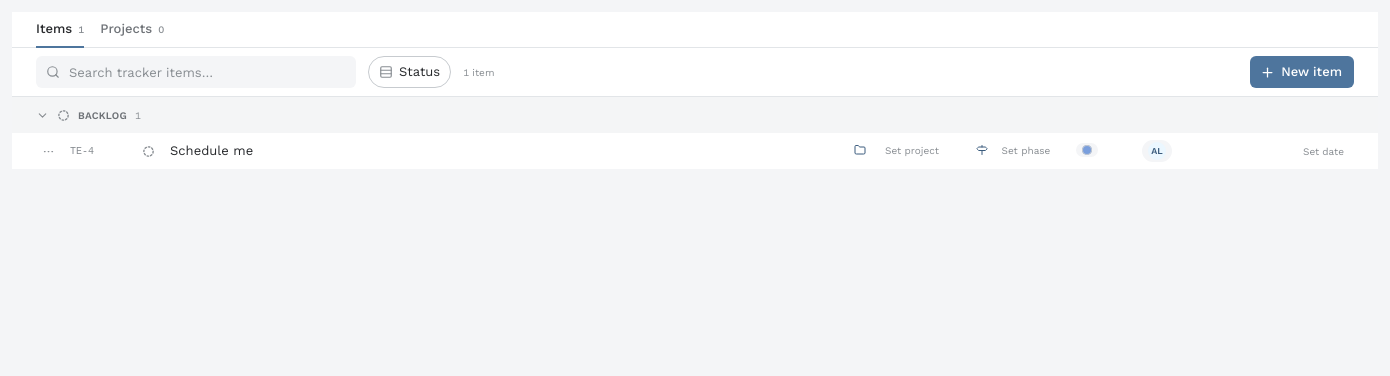
TrackerPage › sets both dates from the row date popover
The width and height of the screenshot is (1390, 376).
Expected: the button with test id "tracker-row-TE-4" is shown, [12,133,1378,169]
Click the button with aria-label "Date: Set date". click: (1324, 151)
box: [1303,144,1344,158]
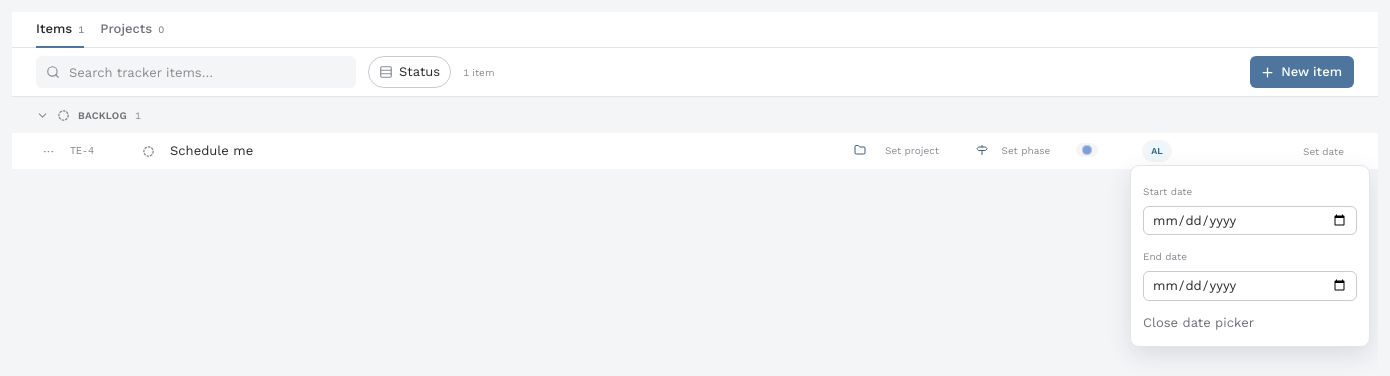
Type "2026-08-06" into the date field labelled "Start date". click: (1250, 220)
box: [1143,206,1357,235]
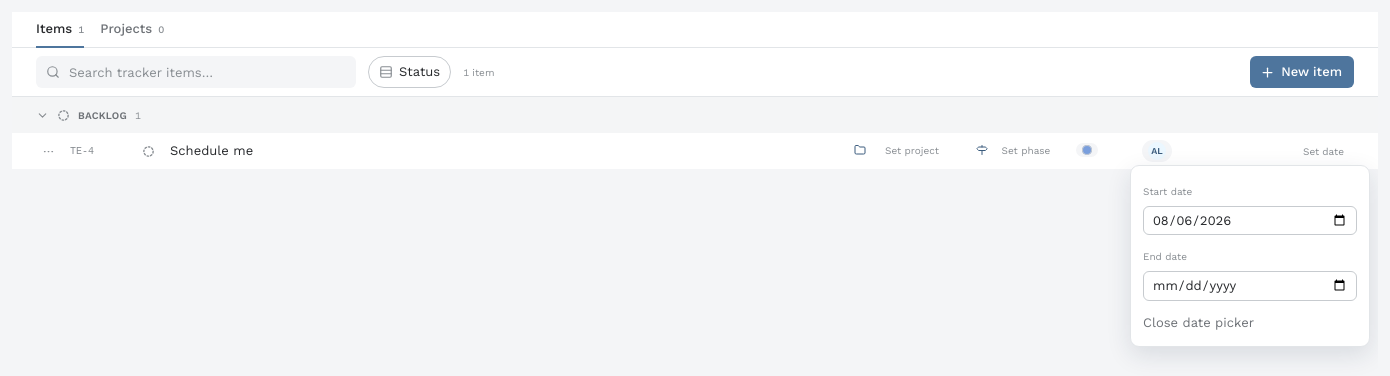
Type "2026-08-26" into the date field labelled "End date". click: (1250, 286)
box: [1143,271,1357,300]
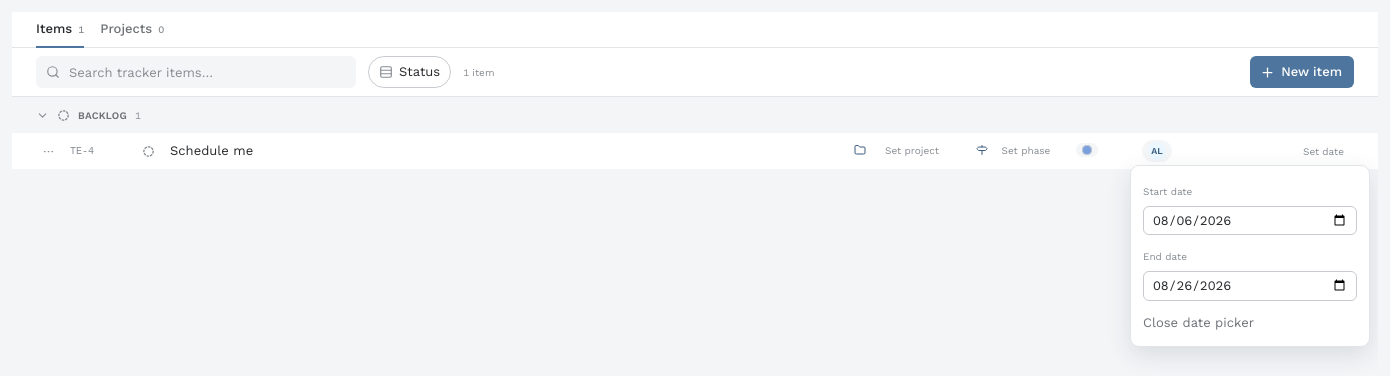
Click the button labelled "Close date picker". click: (1198, 322)
box: [1143,312,1254,332]
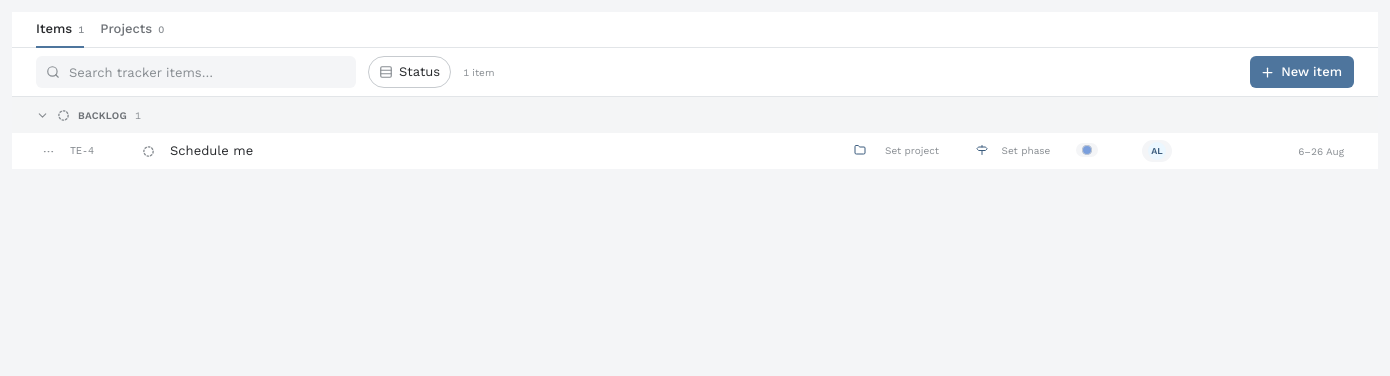
Expected: the button with aria-label "Date: 6–26 Aug" is shown, [1298,144,1344,158]
